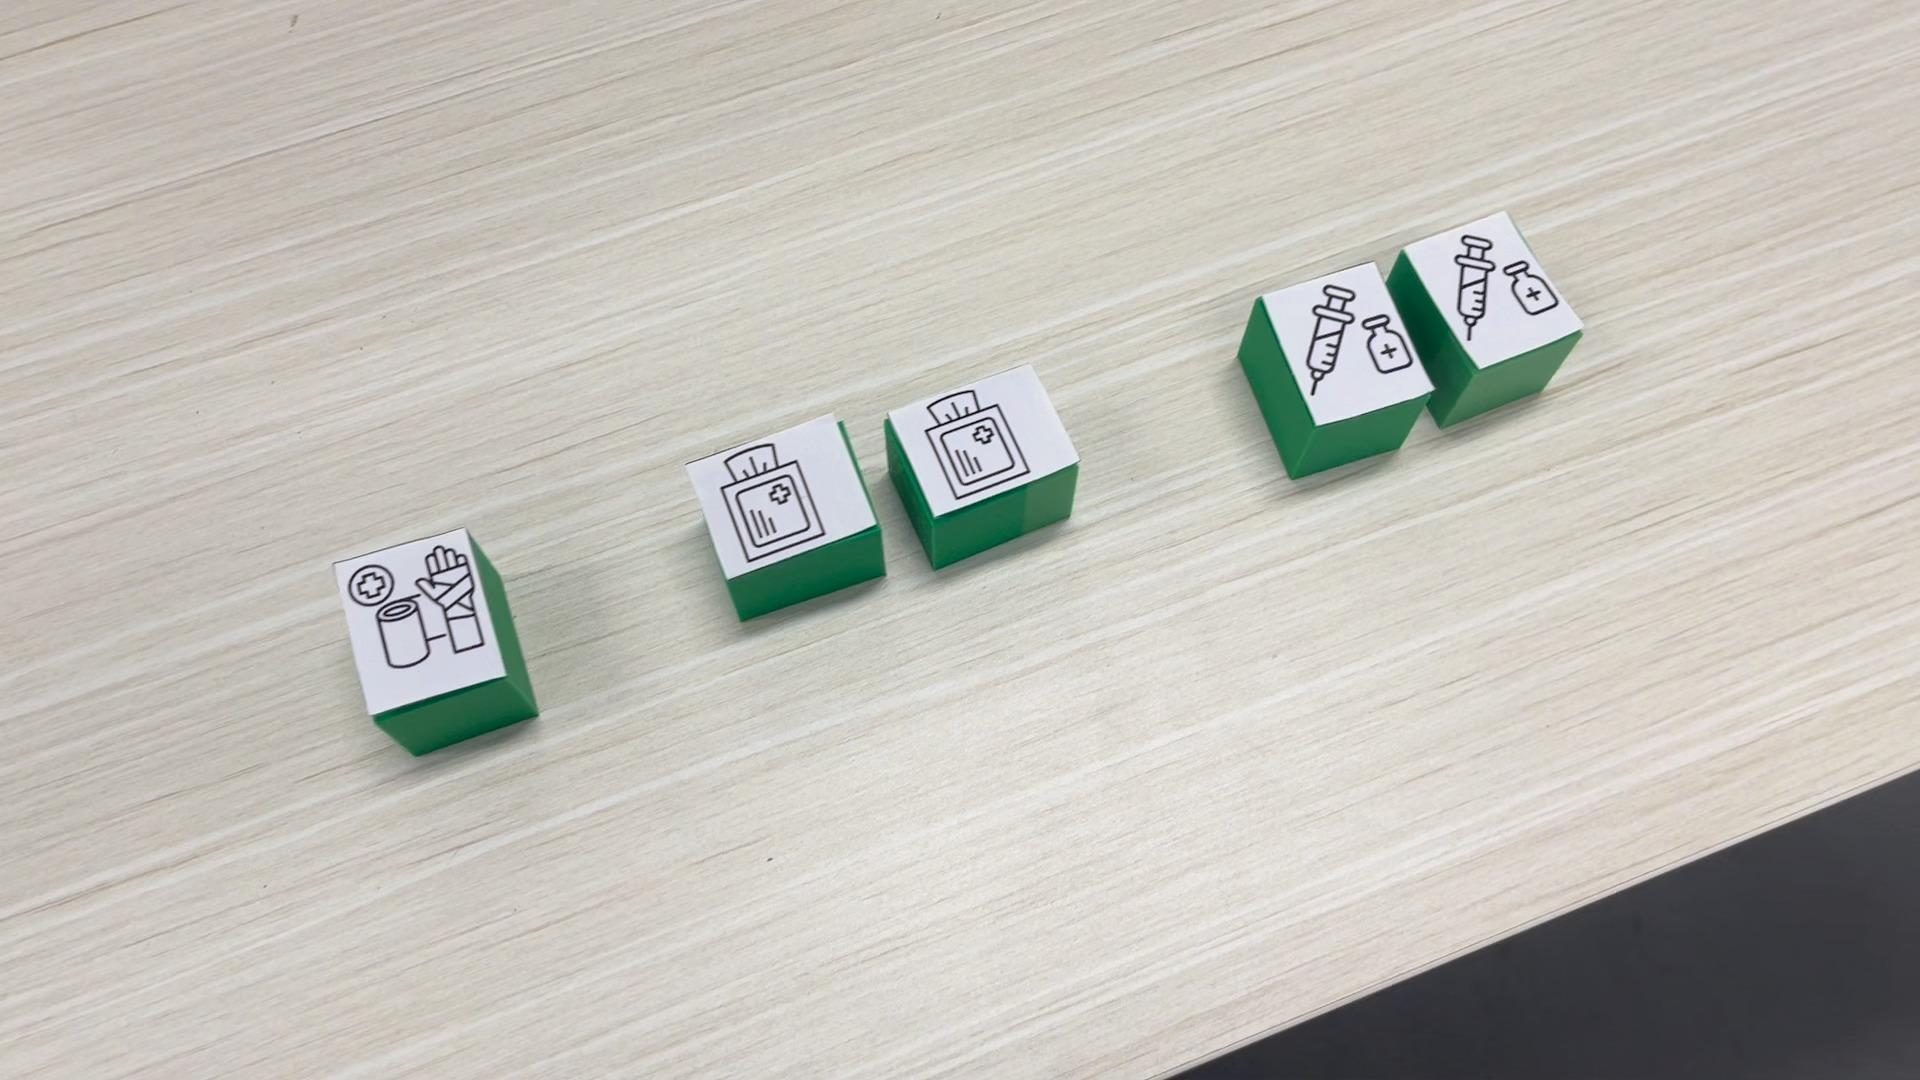Bandages: (328, 526, 541, 756)
Gauze: (680, 411, 885, 620), (885, 367, 1080, 570)
antiseptic cream: (1233, 261, 1431, 481), (1419, 207, 1586, 427)
